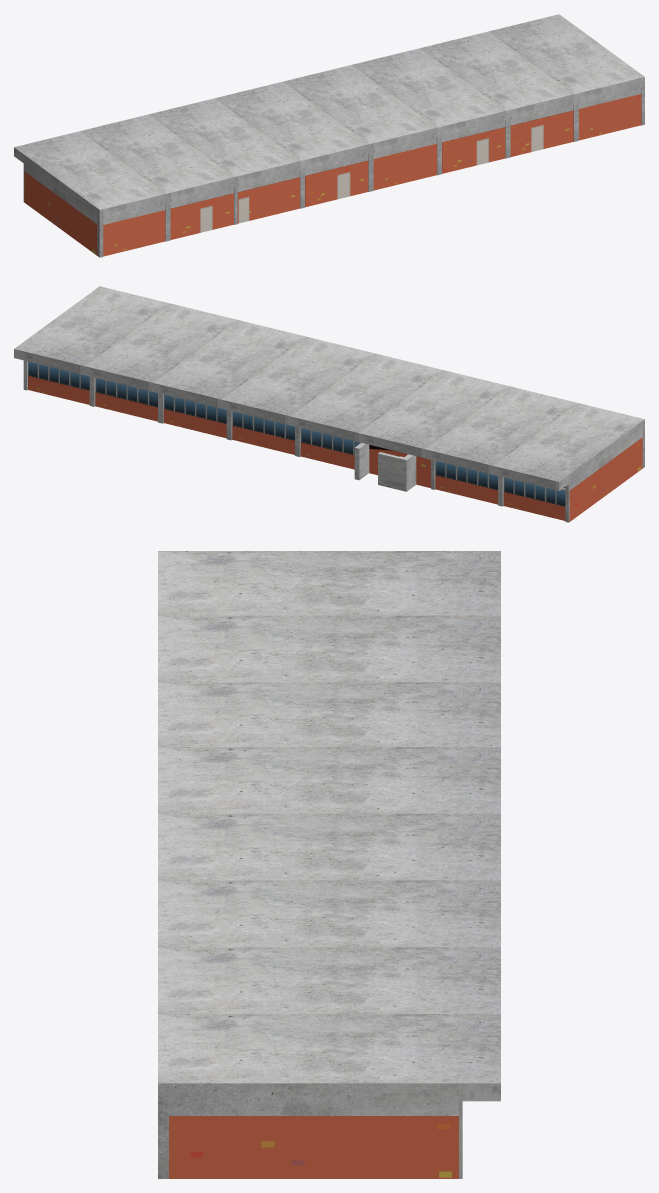
The model's file is edif-12.fbx.
The picture shows the model from 3 angles, top to bottom: view 1: azimuth 30°, elevation 25°; view 2: azimuth 150°, elevation 25°; view 3: azimuth 270°, elevation 25°; orthographic projection. The views are drawn at different scales.
Visible parts, largest first — view 1: polySurface166; view 2: polySurface166; view 3: polySurface166.
Boxes of the visible parts, <box> form: polySurface166: <box>14,14,644,257</box>; polySurface166: <box>14,286,644,522</box>; polySurface166: <box>158,551,500,1178</box>.
Size of the model in its own units: 595 by 49.82 by 162.
1 material, 1 textured.
